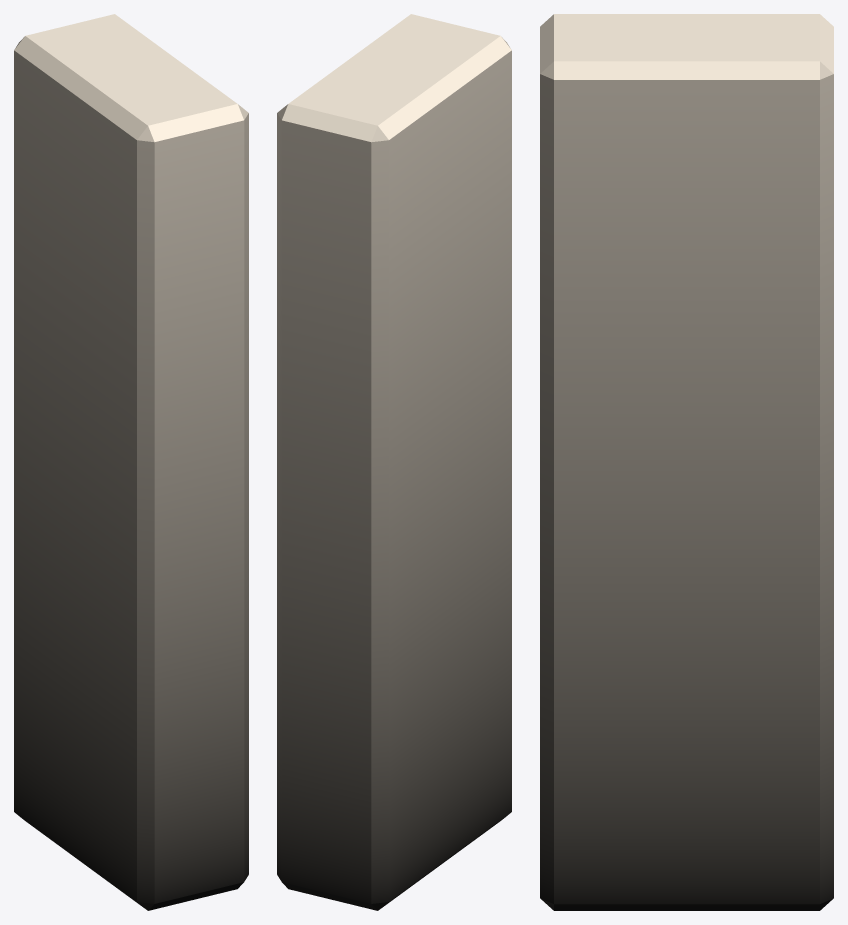
File: SM_VKI_Post_Board_Mid_Cut.fbx
3 views of the same model, side by side, from view 1: azimuth 30°, elevation 25°; view 2: azimuth 150°, elevation 25°; view 3: azimuth 270°, elevation 25° (orthographic). The views are drawn at different scales.
Visible parts, largest first — view 1: SM_VKI_Post_Board_Mid_Cut.001; view 2: SM_VKI_Post_Board_Mid_Cut.001; view 3: SM_VKI_Post_Board_Mid_Cut.001.
Part boxes in pixels (bbox=[...]): SM_VKI_Post_Board_Mid_Cut.001: bbox=[14, 14, 248, 910]; SM_VKI_Post_Board_Mid_Cut.001: bbox=[277, 14, 511, 910]; SM_VKI_Post_Board_Mid_Cut.001: bbox=[540, 14, 833, 910].
Bounding box in the file's own units: 0.2 × 1.34 × 0.42.
